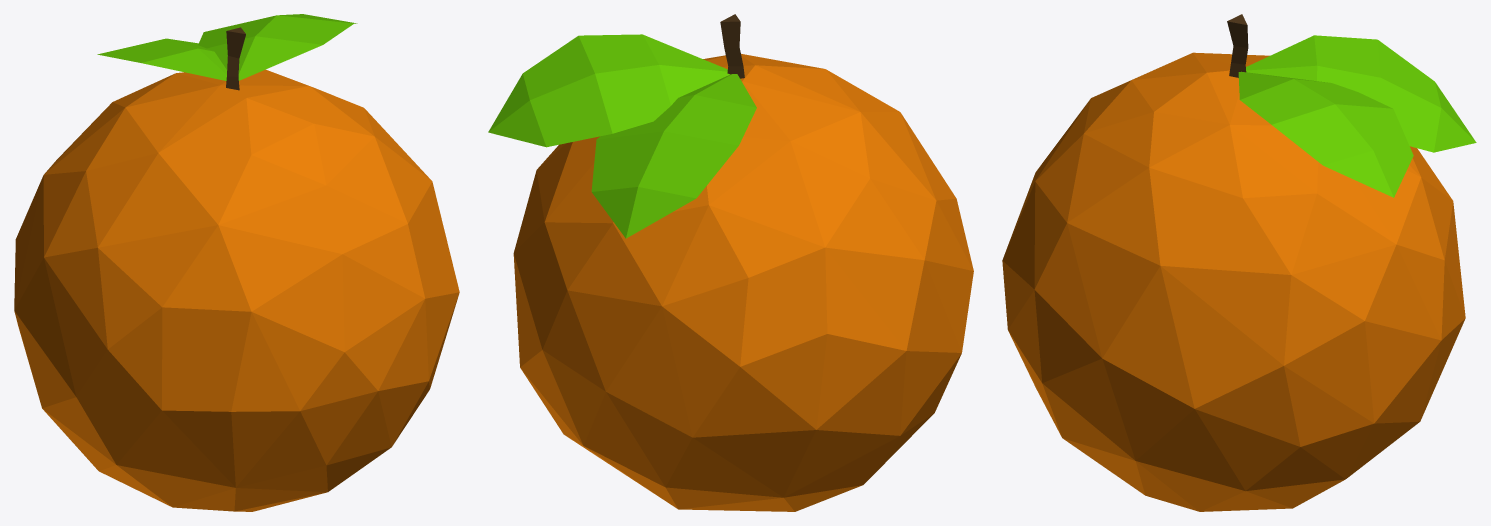
File: Orange.glb
3 renders of one model, left to right at view 1: azimuth 30°, elevation 25°; view 2: azimuth 150°, elevation 25°; view 3: azimuth 270°, elevation 25°, orthographic. The views are drawn at different scales.
Parts seen in each view (by area): view 1: Orange; view 2: Orange; view 3: Orange.
Part boxes in pixels (bbox=[...]): Orange: bbox=[14, 14, 459, 511]; Orange: bbox=[488, 14, 973, 511]; Orange: bbox=[1002, 14, 1476, 511].
Size of the model in its own units: 29.2 by 33.57 by 30.38.
Materials: 1 (1 with a texture image).
